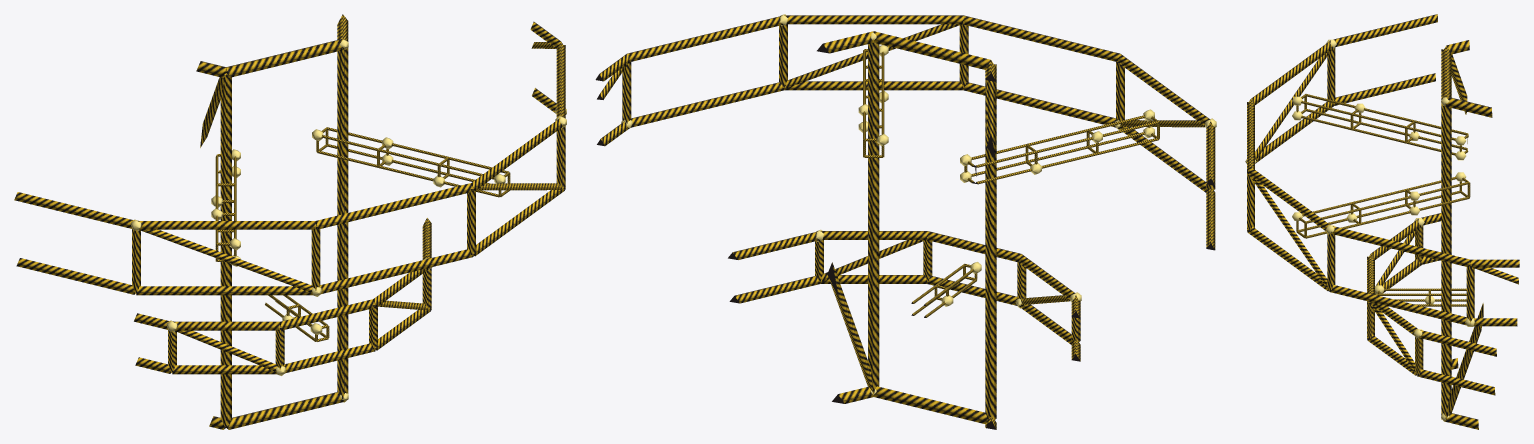
Rendered from research_station_build1_debris2.obj.
3 renders of one model, left to right at view 1: azimuth 30°, elevation 25°; view 2: azimuth 150°, elevation 25°; view 3: azimuth 270°, elevation 25°, orthographic. The views are drawn at different scales.
Parts seen in each view (by area): view 1: girder, post, brace, work_light; view 2: girder, post, brace, work_light; view 3: girder, post, brace, work_light.
Boxes of the visible parts, x1,y1,x2,y2 form: girder: [14, 14, 565, 429]; post: [132, 45, 565, 427]; brace: [139, 42, 562, 371]; work_light: [130, 38, 566, 402]; girder: [595, 15, 1215, 429]; post: [622, 21, 1215, 419]; brace: [597, 24, 1204, 391]; work_light: [621, 14, 1216, 394]; girder: [1247, 14, 1519, 429]; post: [1247, 47, 1474, 419]; brace: [1249, 49, 1518, 417]; work_light: [1245, 39, 1474, 421].
Size of the model in its own units: 142 by 86.59 by 66.3.
3 materials, 1 textured.
